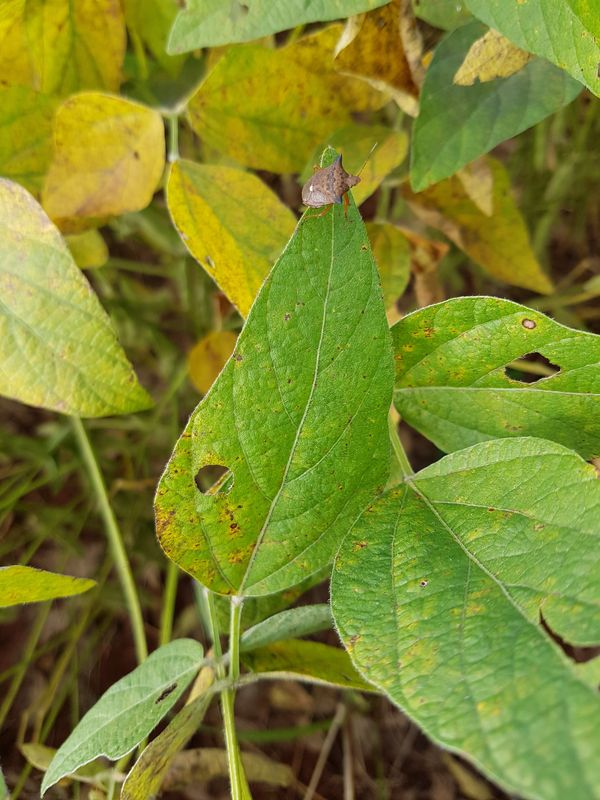Euschistus_heros_adulto: (286, 134, 382, 224)
